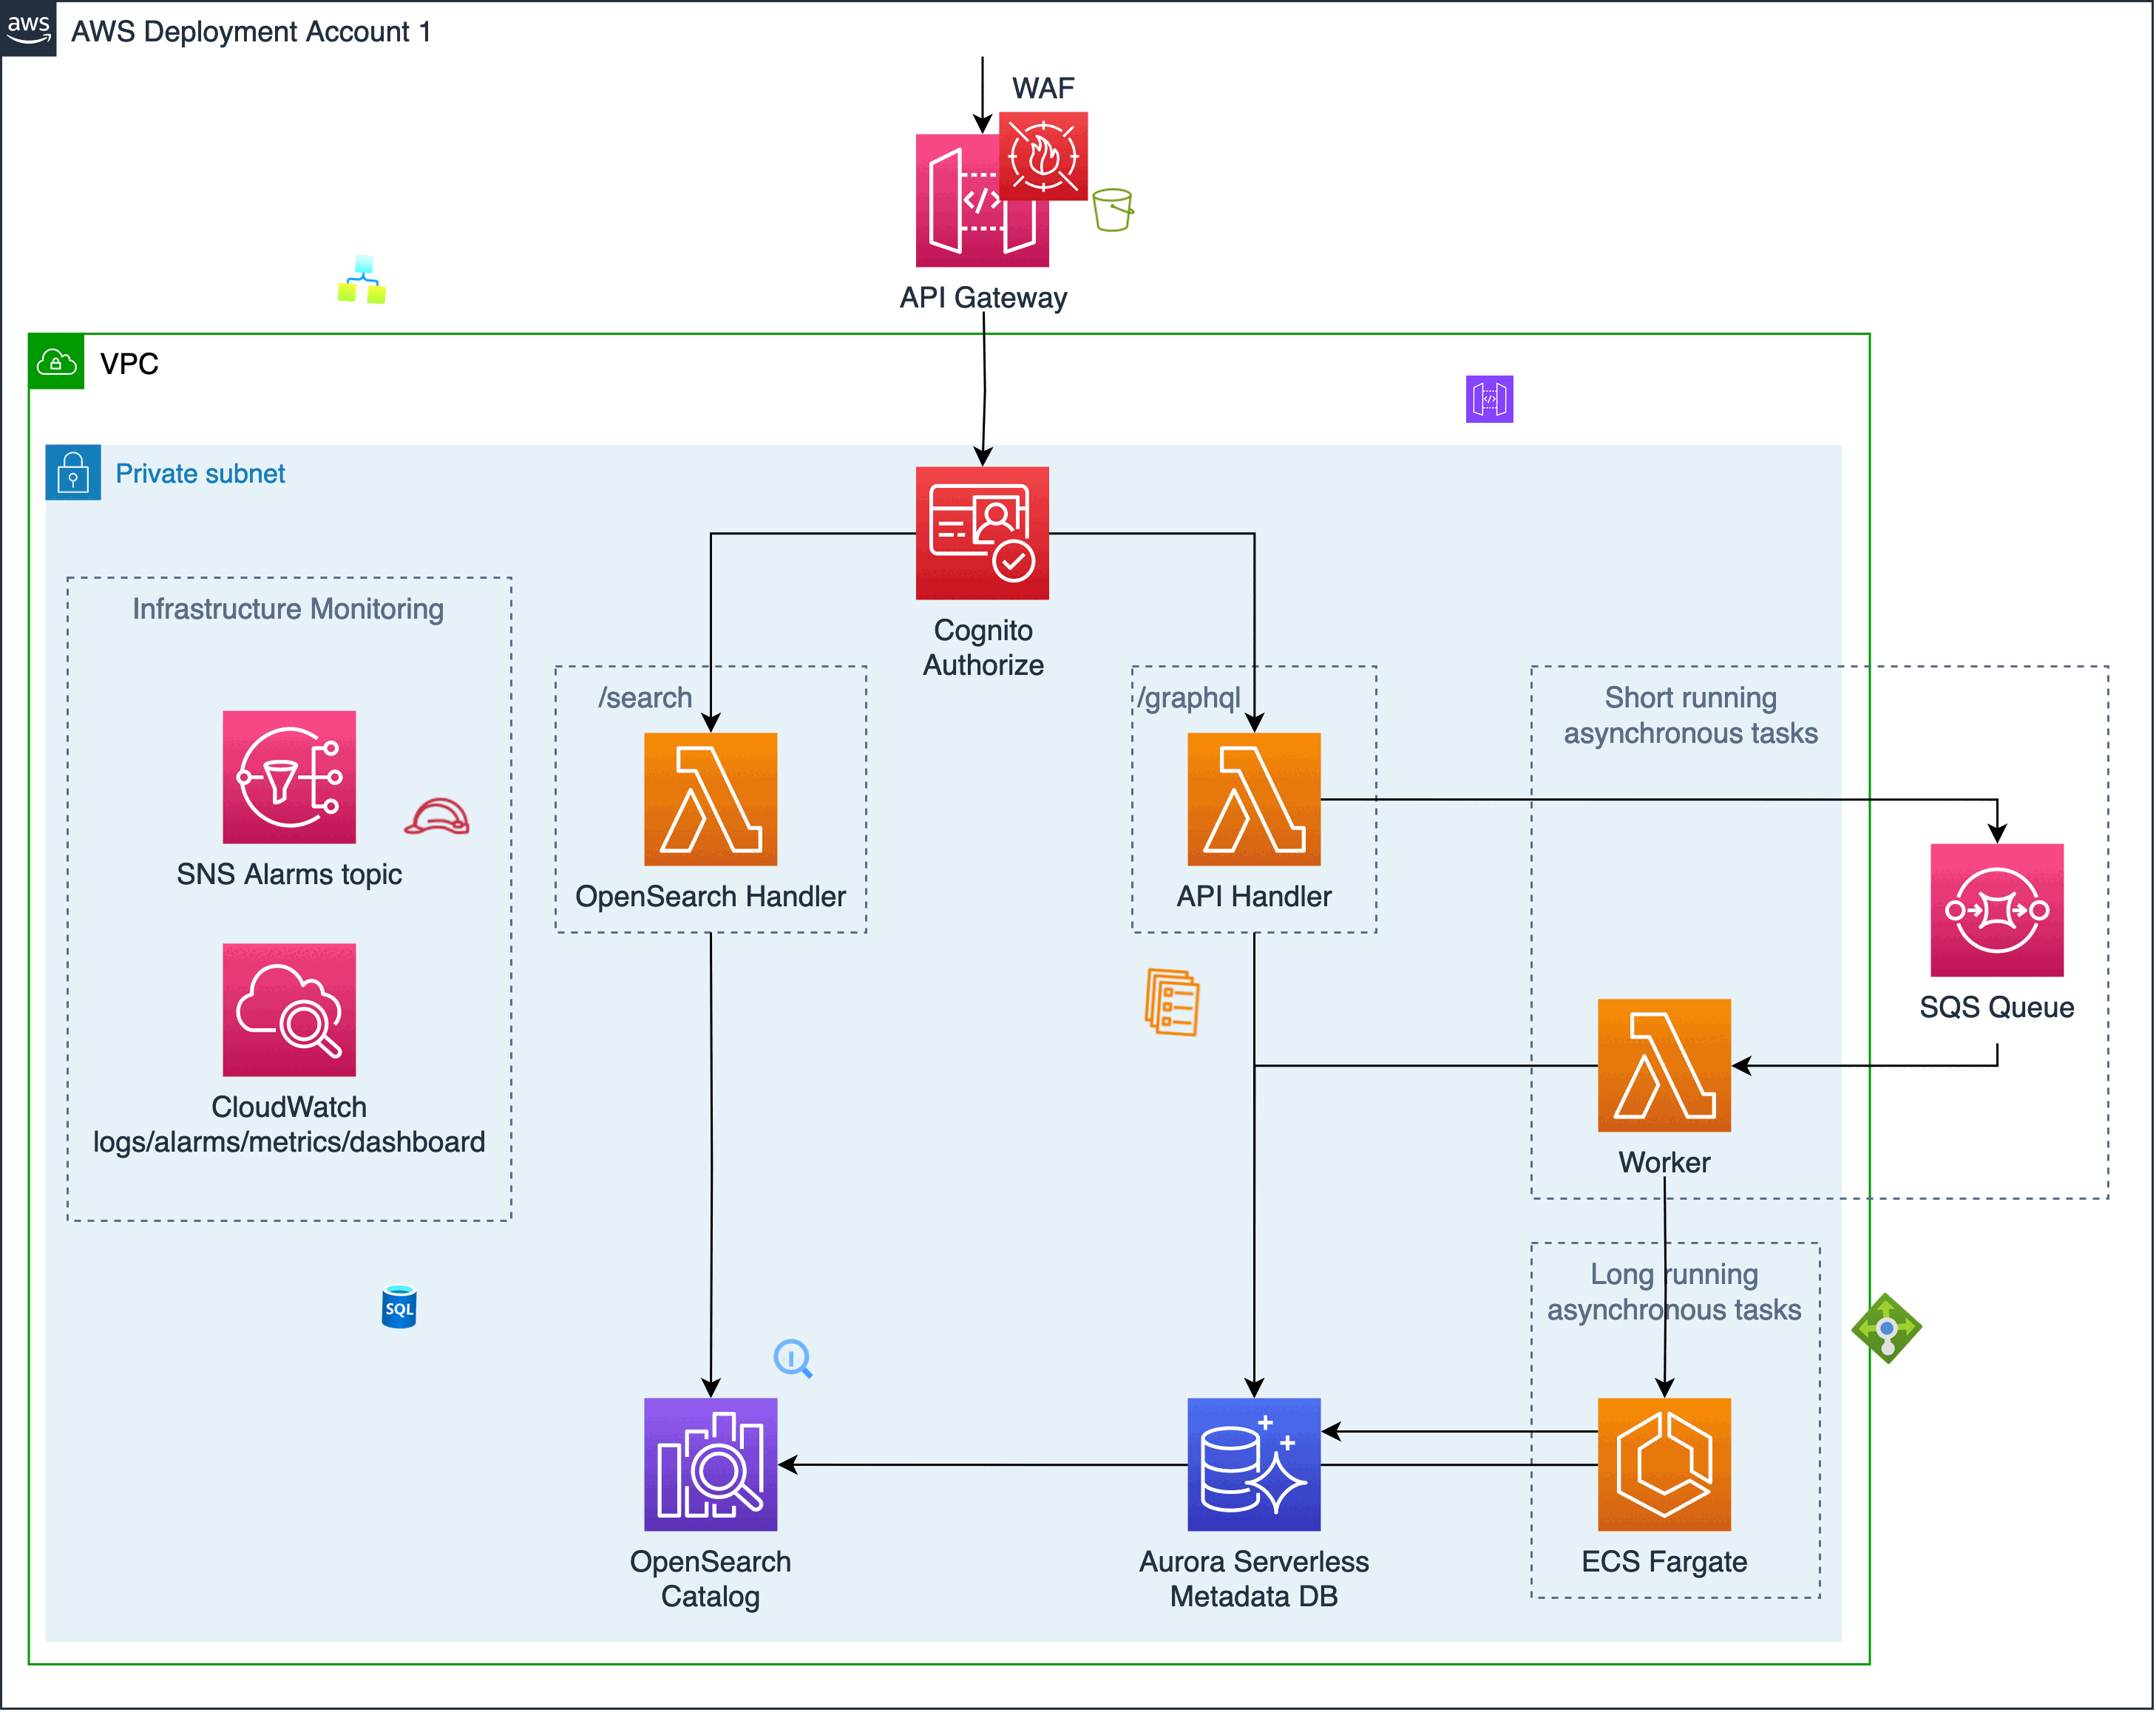aws_amazon_api_gateway: (1465, 374, 1514, 423)
aws_elastic_container_service_service: (1134, 964, 1211, 1040)
aws_identity_access_management_role: (401, 780, 474, 853)
aws_simple_storage_service_s3_standard: (1088, 185, 1137, 234)
azure_load_balancers: (1850, 1291, 1925, 1366)
azure_logic_apps: (338, 254, 389, 304)
azure_sql_database: (374, 1282, 424, 1331)
gcp_bigquery: (768, 1334, 817, 1383)
